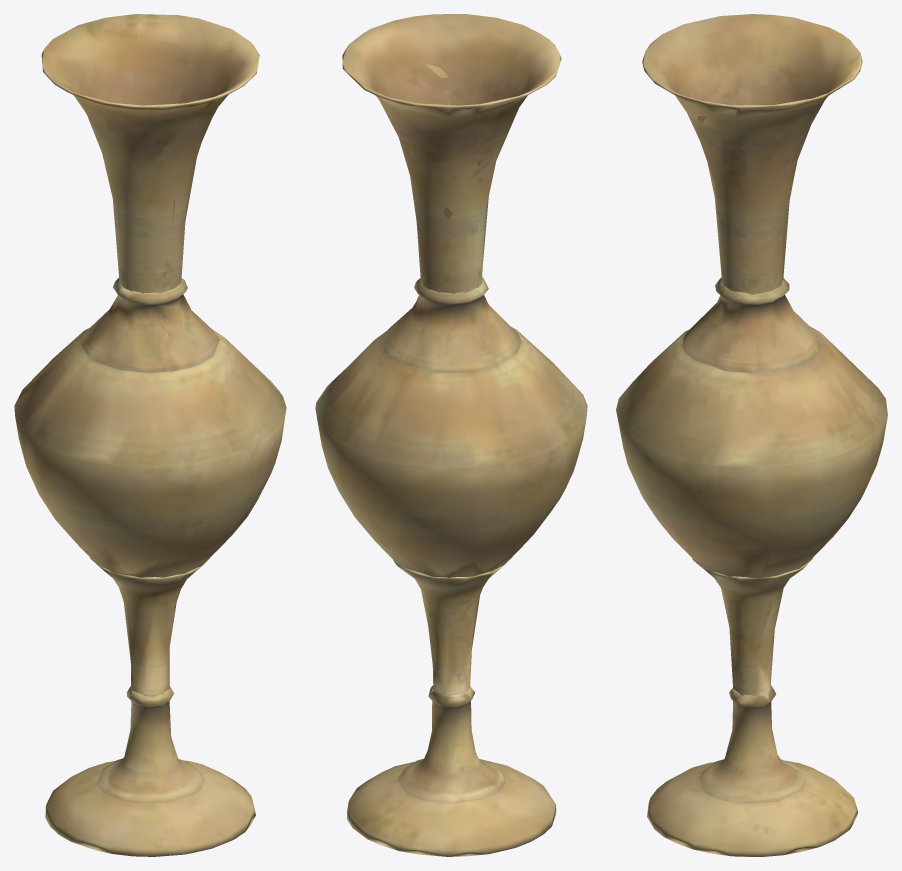
File: brass_vase_01.glb
3 renders of one model, left to right at view 1: azimuth 30°, elevation 25°; view 2: azimuth 150°, elevation 25°; view 3: azimuth 270°, elevation 25°, orthographic.
Parts seen in each view (by area): view 1: brass_vase_01; view 2: brass_vase_01; view 3: brass_vase_01.
Part boxes in pixels (x1,y1,x2,y2): brass_vase_01: [14, 14, 286, 856]; brass_vase_01: [315, 14, 587, 856]; brass_vase_01: [616, 14, 887, 856].
Size of the model in its own units: 0.2267 by 0.6925 by 0.2267.
1 material, 1 textured.
